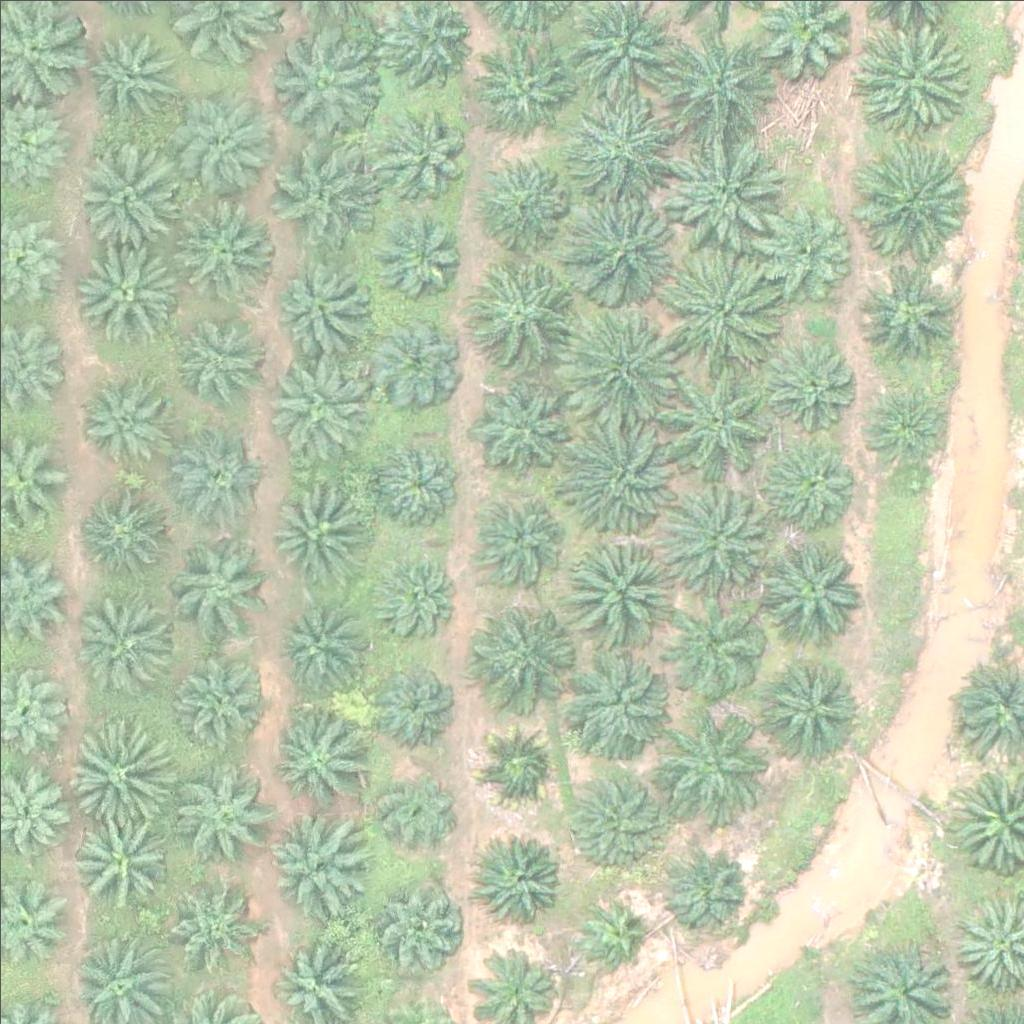Kelapa_Sawit: (853, 147, 966, 261), (169, 83, 282, 196), (272, 23, 385, 136), (669, 131, 782, 244), (857, 24, 970, 137), (560, 310, 673, 423), (560, 421, 673, 534), (561, 539, 674, 652), (560, 654, 673, 767), (663, 479, 776, 592), (661, 250, 774, 363), (169, 189, 281, 303), (565, 92, 677, 206), (64, 714, 176, 828), (260, 348, 372, 462), (557, 195, 669, 309), (66, 137, 178, 250), (266, 140, 378, 253), (659, 33, 771, 146), (71, 236, 183, 349), (465, 595, 577, 708), (463, 245, 575, 358), (657, 365, 769, 478), (76, 30, 176, 131), (78, 370, 178, 471), (65, 803, 165, 904), (173, 755, 273, 856), (171, 645, 271, 746), (166, 301, 266, 402), (266, 709, 366, 810), (366, 309, 466, 410), (474, 369, 574, 470), (672, 709, 772, 810), (666, 597, 766, 698), (760, 443, 860, 544), (760, 535, 860, 636), (754, 661, 854, 762), (858, 263, 958, 364), (473, 27, 573, 127), (77, 593, 177, 693), (168, 536, 268, 636), (168, 412, 268, 512), (264, 813, 364, 913), (263, 476, 363, 576), (270, 255, 370, 355), (365, 431, 465, 531), (565, 775, 665, 875), (753, 201, 853, 301), (757, 342, 857, 442), (380, 110, 468, 198), (483, 156, 571, 244), (84, 489, 172, 577), (163, 871, 251, 959), (276, 605, 364, 693), (377, 213, 465, 301), (371, 766, 459, 854), (370, 654, 458, 742), (370, 549, 458, 637), (662, 846, 750, 934), (374, 883, 461, 971), (476, 837, 563, 925), (476, 719, 563, 807), (479, 498, 566, 586), (864, 388, 951, 476), (572, 892, 647, 968)
